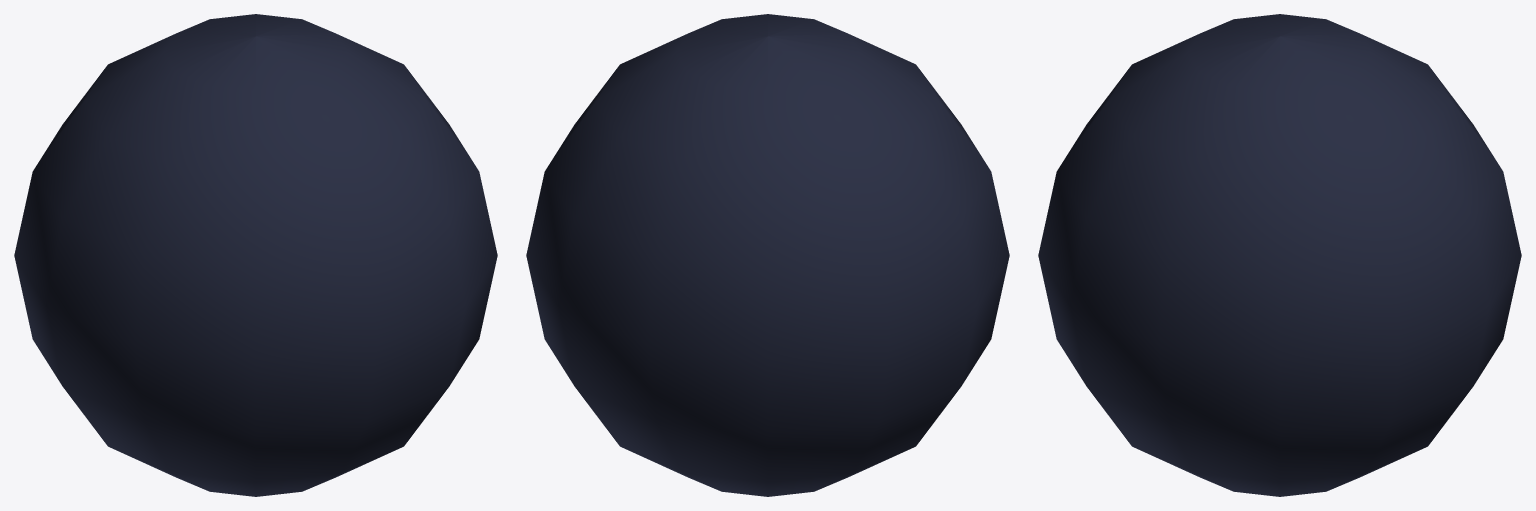
File: stillness_orb.glb
3 views of the same model, side by side, from view 1: azimuth 30°, elevation 25°; view 2: azimuth 150°, elevation 25°; view 3: azimuth 270°, elevation 25° (orthographic).
Visible parts, largest first — view 1: effect; view 2: effect; view 3: effect.
Boxes of the visible parts, left/top/right/bottom form: effect: left=14, top=14, right=497, bottom=496; effect: left=526, top=14, right=1009, bottom=496; effect: left=1038, top=14, right=1521, bottom=496.
Bounding box in the file's own units: 2 × 2 × 2.
